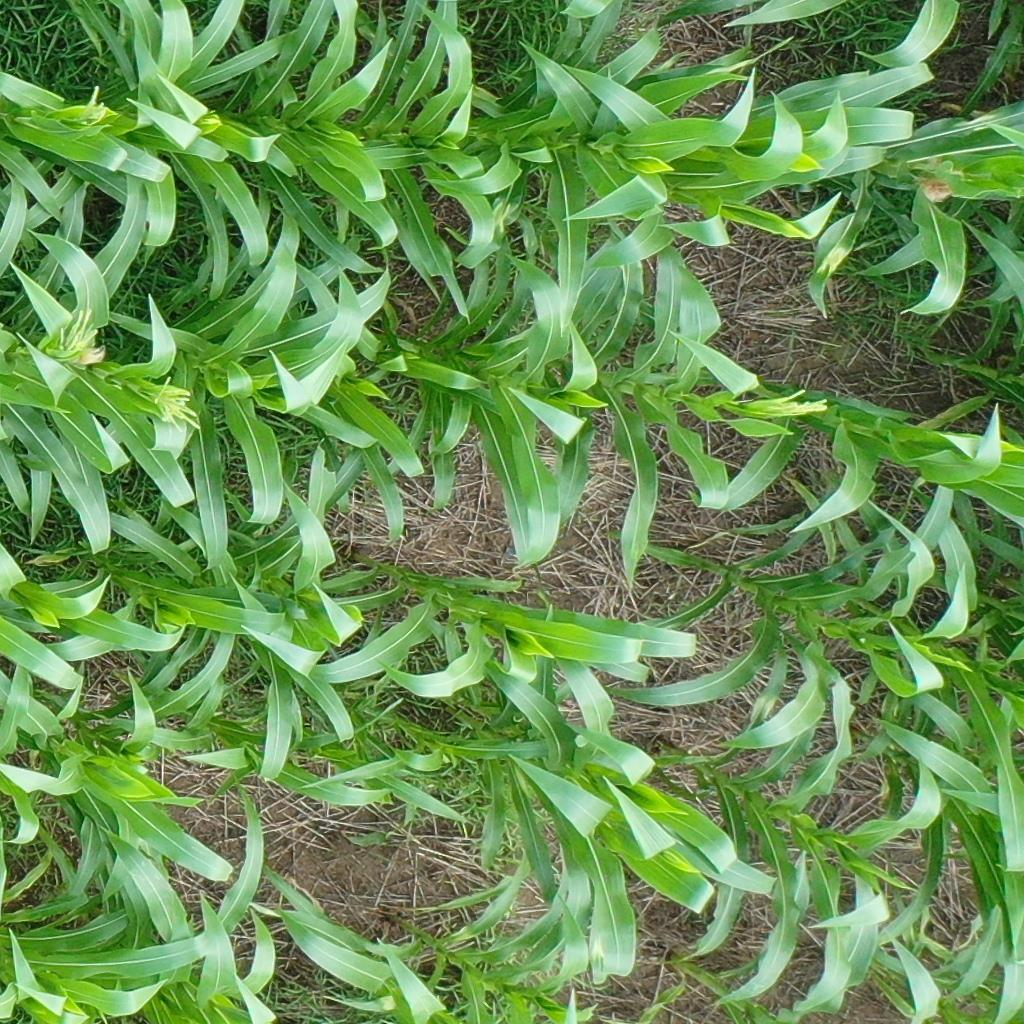Tassel: (150, 377, 204, 436), (752, 386, 827, 421), (57, 308, 98, 359), (79, 82, 110, 128)
